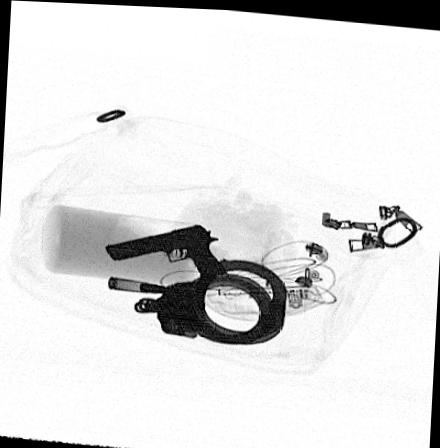Bullet: (110, 277, 176, 292)
Gun: (105, 221, 227, 276)
HandCuffs: (131, 256, 290, 345)
